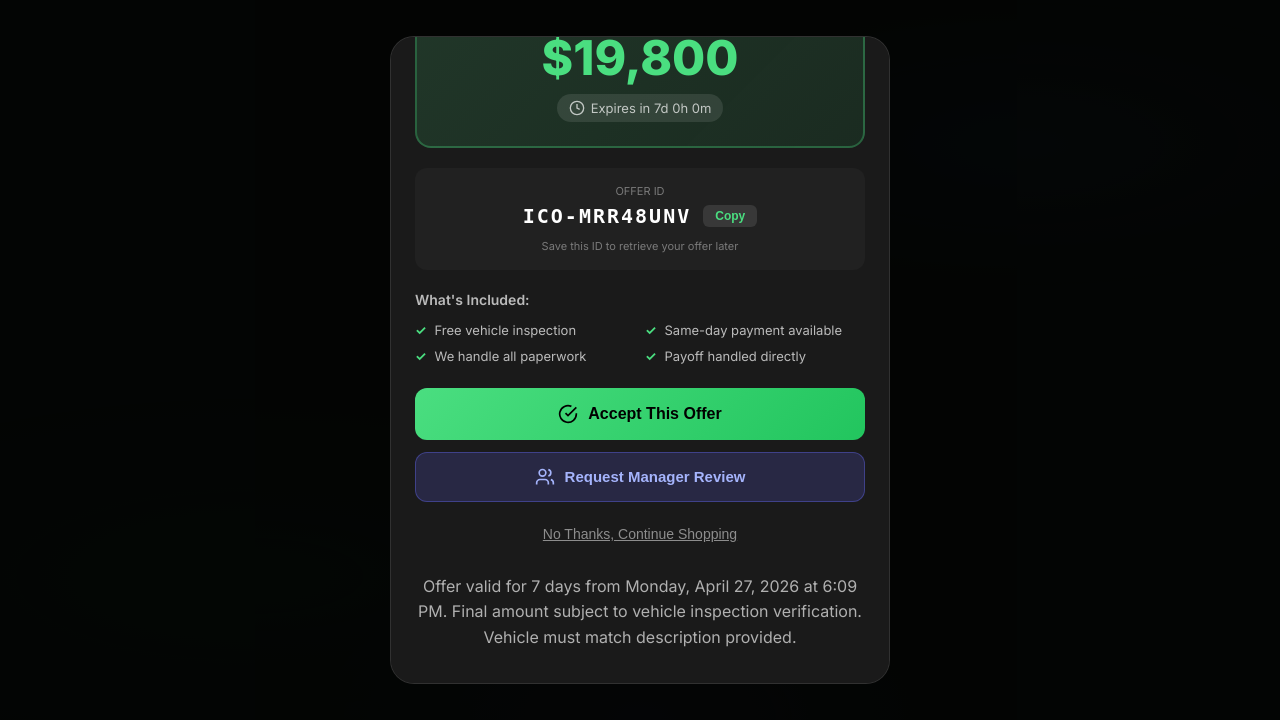
Scenario: InstantCashOffer Component › Accept Flow › clicking accept shows contact form
(page scrolled)
Click the button "Accept This Offer". click: (640,414)
box: [415, 388, 865, 440]
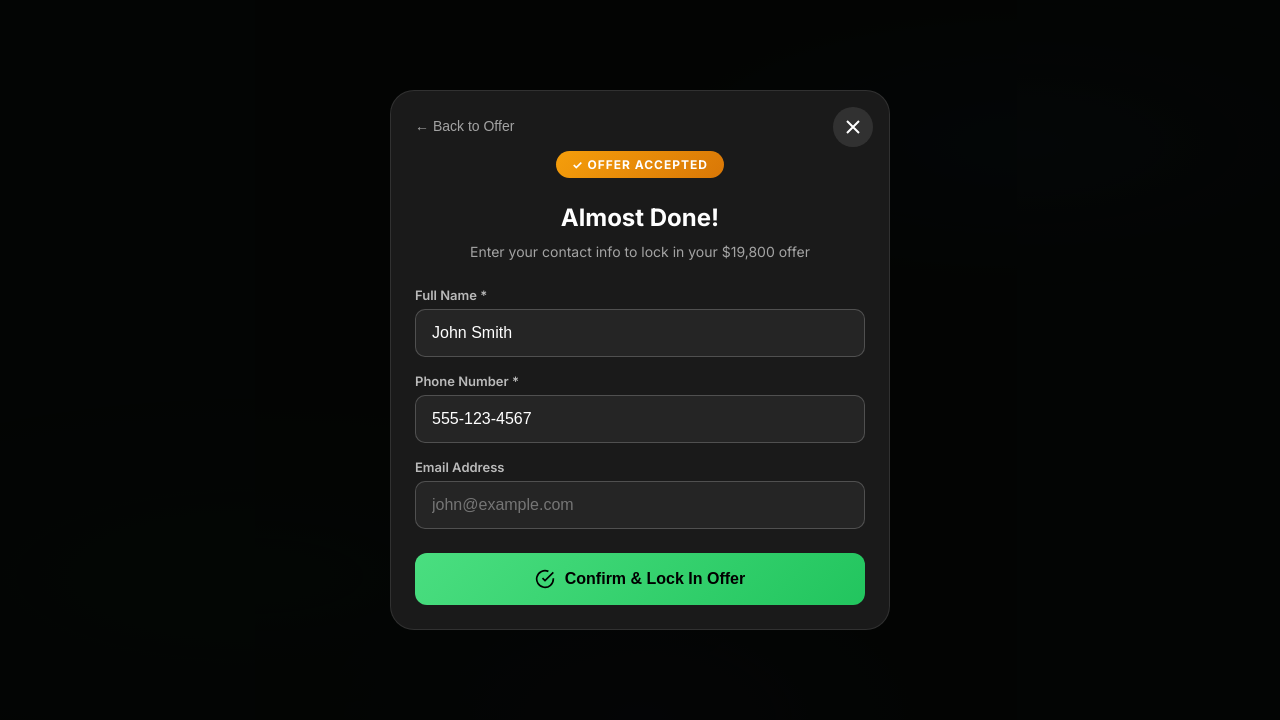
Expected: the heading "Almost Done!" is shown, [561, 203, 719, 232]
Expected: the text "Full Name *" is shown, [415, 287, 487, 303]
Expected: the text "Phone Number *" is shown, [415, 373, 519, 389]
